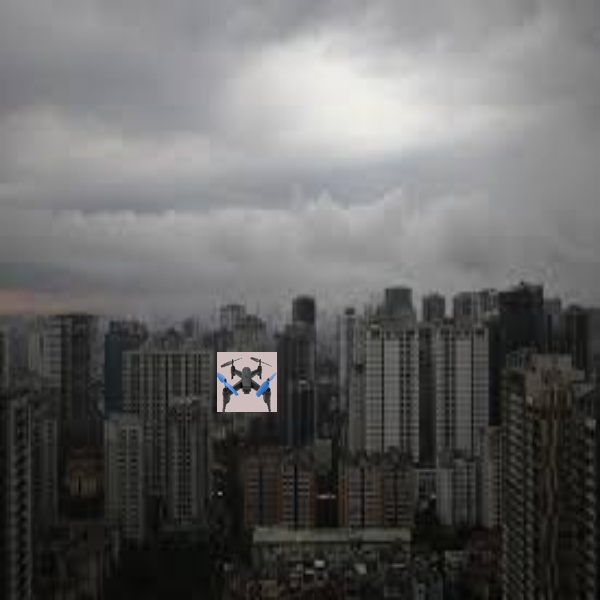drone: (218, 354, 278, 414)
